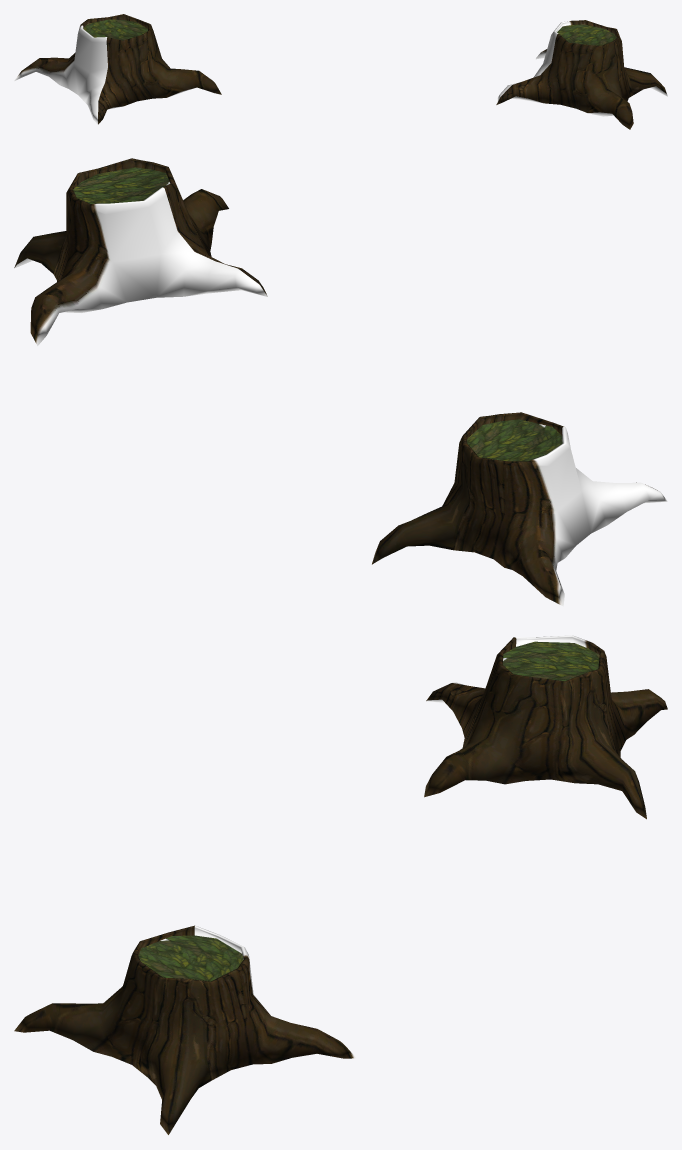
File: StumpShape.dae
The picture shows the model from 3 angles, top to bottom: view 1: azimuth 30°, elevation 25°; view 2: azimuth 150°, elevation 25°; view 3: azimuth 270°, elevation 25°; orthographic projection. The views are drawn at different scales.
Visible parts, largest first — view 1: Stump; view 2: Stump; view 3: Stump.
Boxes of the visible parts, x1,y1,x2,y2 form: Stump: (14, 14, 667, 129); Stump: (14, 158, 667, 606); Stump: (14, 635, 667, 1134).
Size of the model in its own units: 40.24 by 7 by 28.55.
